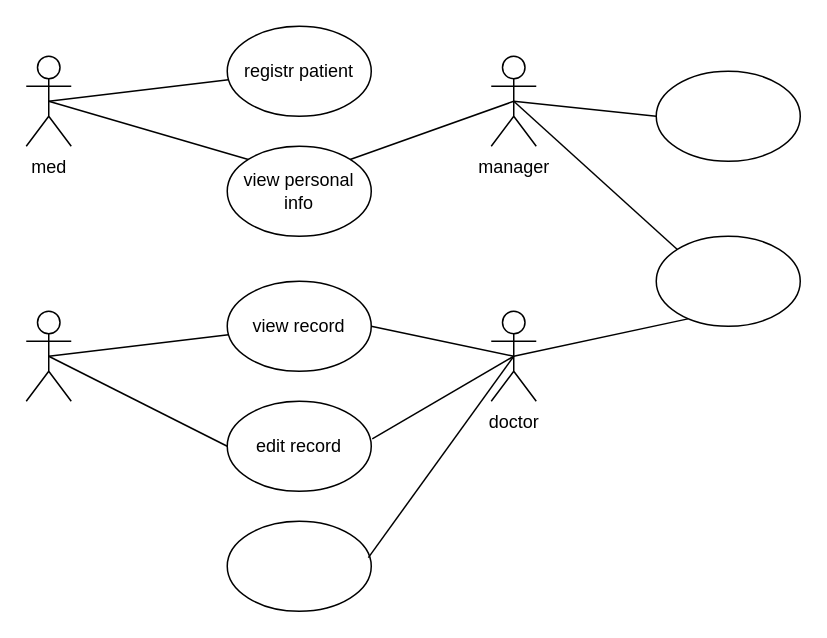
Image size: 827x638. Some labels were removed from this diagram. Here are the shapes that lost their labels. From the top down, the box of each, then its label:
(655, 70, 800, 161): export statistic
(655, 235, 800, 326): generate repot
(25, 310, 71, 401): nurse
(226, 520, 371, 611): setup
